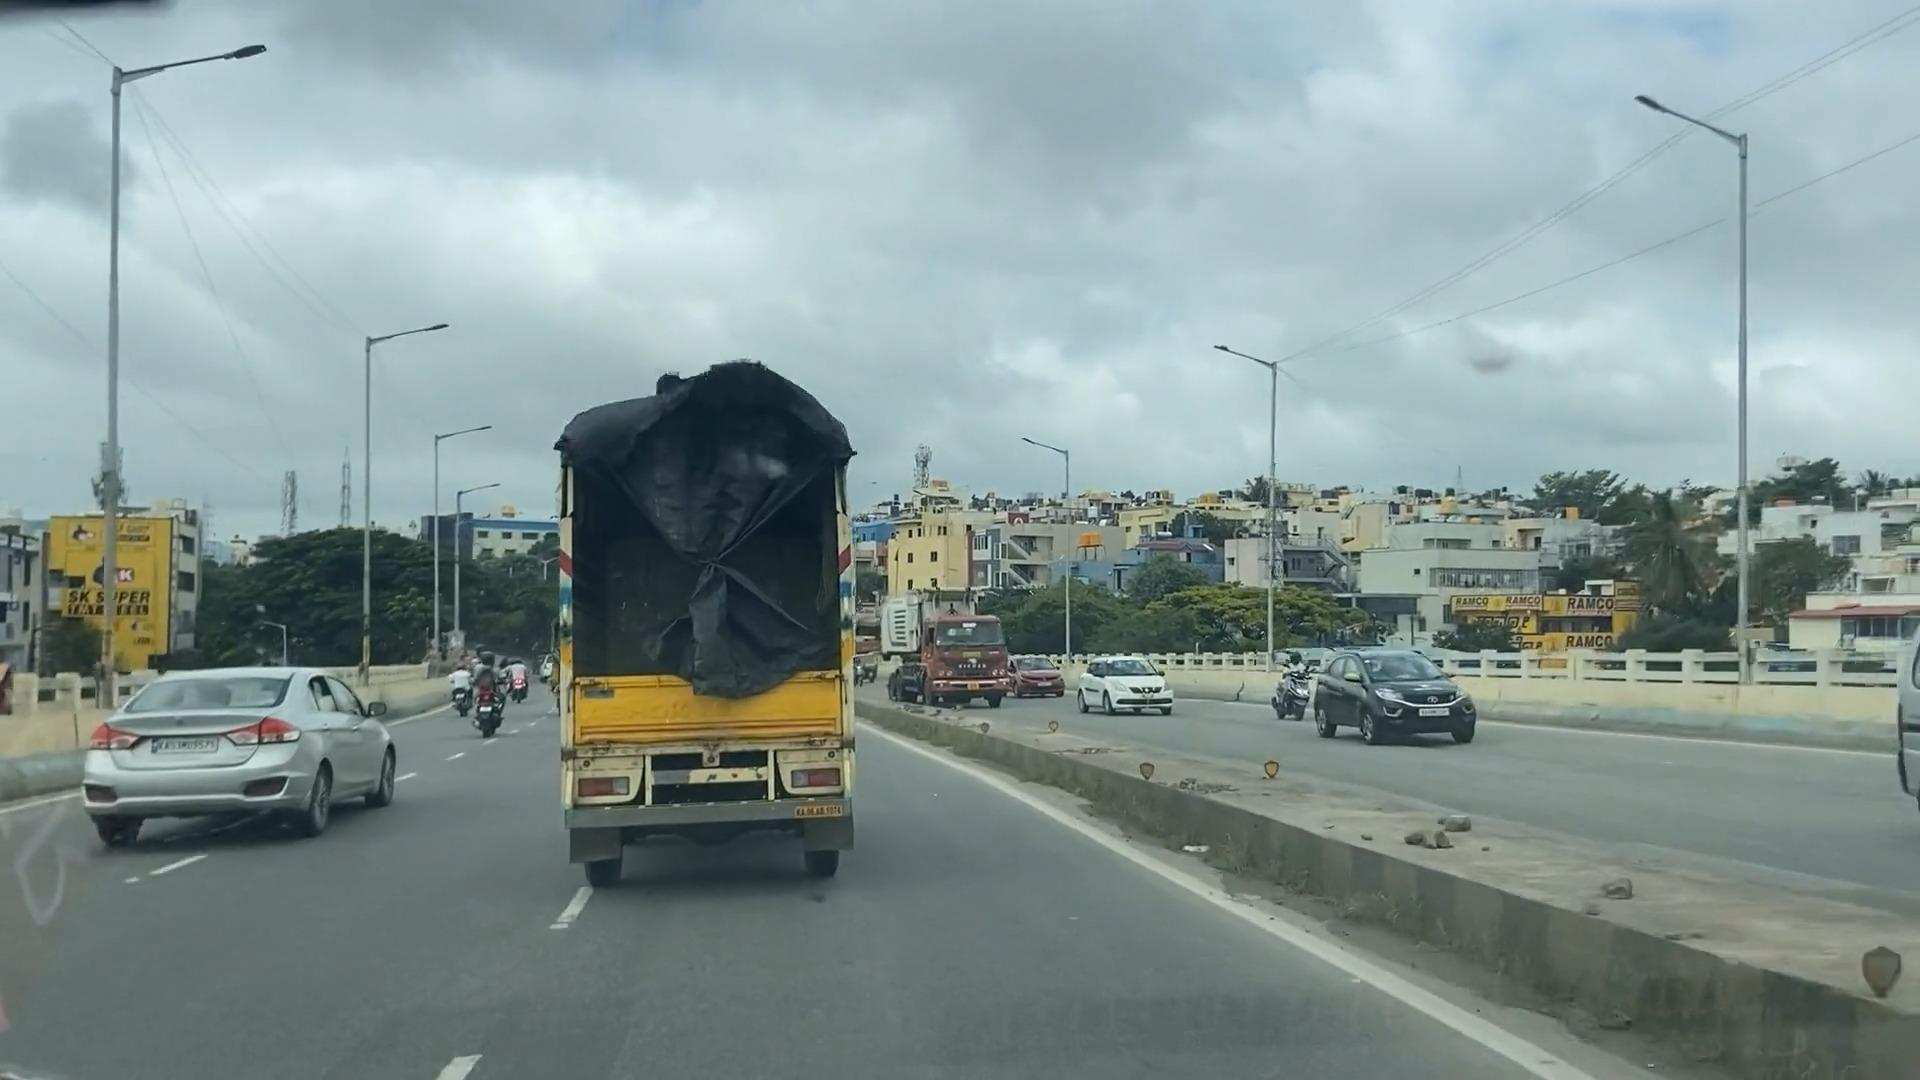HMV: (546, 340, 876, 907), (889, 589, 1029, 745)
